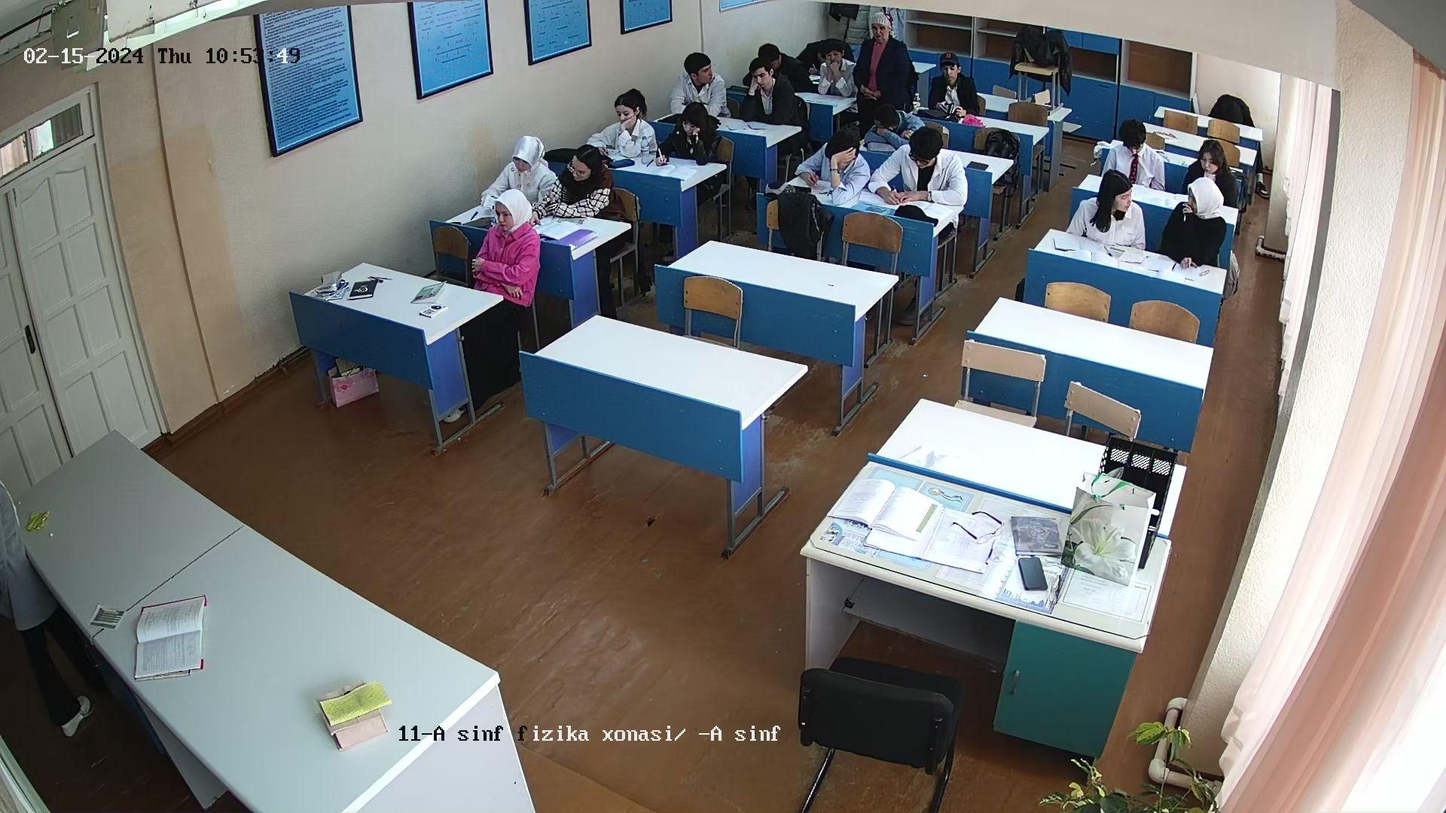Bend Over The Desk: (864, 109, 911, 148)
Hand Under Table: (1101, 126, 1172, 186)
Look Around: (1173, 176, 1224, 254), (1092, 170, 1146, 241), (676, 53, 718, 93)
Normal: (888, 132, 968, 217), (481, 206, 535, 299), (560, 140, 614, 222), (494, 131, 549, 195), (595, 97, 654, 155), (674, 102, 719, 166), (937, 56, 976, 122), (1195, 140, 1233, 184), (819, 46, 852, 95)
Stand Up: (865, 14, 909, 108)
Wave: (747, 72, 757, 111)
